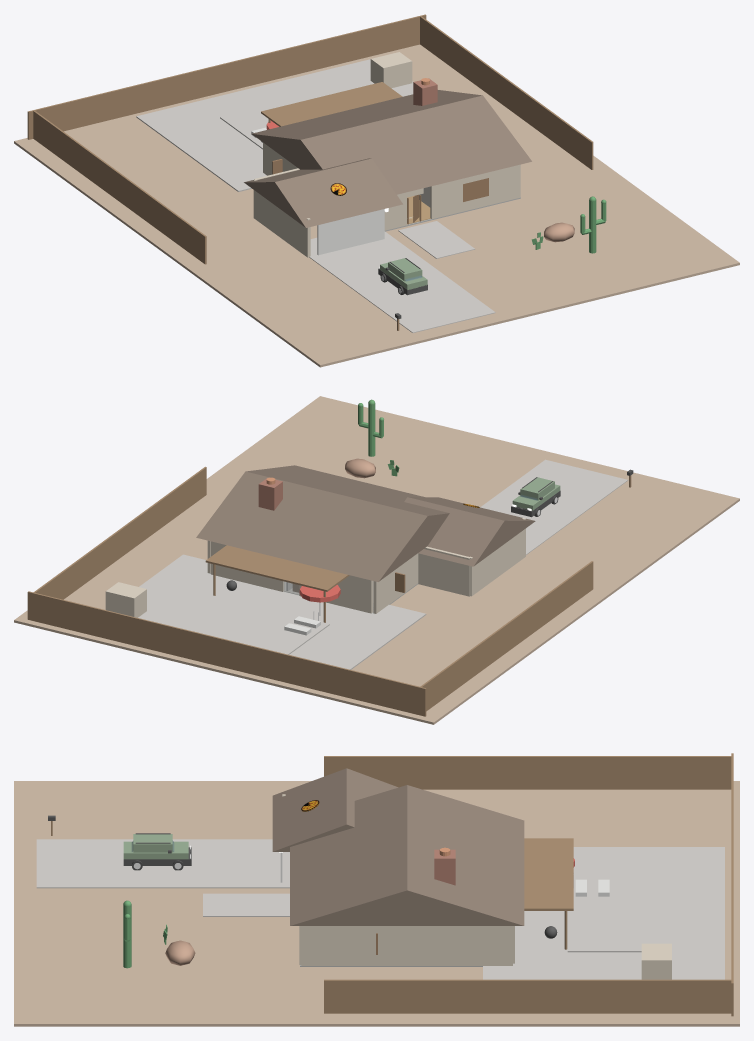
File: walter_white_house.glb
The picture shows the model from 3 angles, top to bottom: view 1: azimuth 30°, elevation 25°; view 2: azimuth 150°, elevation 25°; view 3: azimuth 270°, elevation 25°; orthographic projection. The views are drawn at different scales.
Parts seen in each view (by area): view 1: Walt_House_308NegraArroyo_lot, Walt_House_308NegraArroyo_main_roof, Walt_House_308NegraArroyo_fence_back, Walt_House_308NegraArroyo_patio, Walt_House_308NegraArroyo_driveway, Walt_House_308NegraArroyo_garage_roof, Walt_House_308NegraArroyo_fence_left, Walt_House_308NegraArroyo_fence_right, Walt_House_308NegraArroyo_ext_s_r, Walt_House_308NegraArroyo_pergola_beam, Walt_House_308NegraArroyo_garage_door, Walt_House_308NegraArroyo_garage_w (+4 smaller); view 2: Walt_House_308NegraArroyo_lot, Walt_House_308NegraArroyo_main_roof, Walt_House_308NegraArroyo_fence_back, Walt_House_308NegraArroyo_patio, Walt_House_308NegraArroyo_fence_left, Walt_House_308NegraArroyo_driveway, Walt_House_308NegraArroyo_fence_right, Walt_House_308NegraArroyo_pool_coping, Walt_House_308NegraArroyo_garage_roof, Walt_House_308NegraArroyo_pergola_beam, Walt_House_308NegraArroyo_garage_back, Walt_House_308NegraArroyo_garage_w (+5 smaller); view 3: Walt_House_308NegraArroyo_lot, Walt_House_308NegraArroyo_main_roof, Walt_House_308NegraArroyo_patio, Walt_House_308NegraArroyo_fence_right, Walt_House_308NegraArroyo_fence_left, Walt_House_308NegraArroyo_driveway, Walt_House_308NegraArroyo_ext_e, Walt_House_308NegraArroyo_pool_coping, Walt_House_308NegraArroyo_garage_roof, Walt_House_308NegraArroyo_pergola_beam, Walt_House_308NegraArroyo_walkway, Walt_House_308NegraArroyo_pump_shed (+5 smaller).
Boxes of the visible parts, bbox=[...] form: Walt_House_308NegraArroyo_lot: bbox=[14, 44, 739, 367]; Walt_House_308NegraArroyo_main_roof: bbox=[251, 90, 531, 194]; Walt_House_308NegraArroyo_fence_back: bbox=[27, 14, 426, 139]; Walt_House_308NegraArroyo_patio: bbox=[136, 59, 413, 191]; Walt_House_308NegraArroyo_driveway: bbox=[309, 231, 495, 332]; Walt_House_308NegraArroyo_garage_roof: bbox=[244, 158, 402, 227]; Walt_House_308NegraArroyo_fence_left: bbox=[33, 110, 206, 264]; Walt_House_308NegraArroyo_fence_right: bbox=[420, 16, 593, 169]; Walt_House_308NegraArroyo_ext_s_r: bbox=[430, 164, 520, 218]; Walt_House_308NegraArroyo_pergola_beam: bbox=[261, 82, 402, 126]; Walt_House_308NegraArroyo_garage_door: bbox=[317, 209, 384, 255]; Walt_House_308NegraArroyo_garage_w: bbox=[253, 179, 310, 257]; Walt_House_308NegraArroyo_lot: bbox=[14, 396, 739, 724]; Walt_House_308NegraArroyo_main_roof: bbox=[196, 465, 449, 581]; Walt_House_308NegraArroyo_fence_back: bbox=[27, 591, 426, 716]; Walt_House_308NegraArroyo_patio: bbox=[138, 554, 426, 669]; Walt_House_308NegraArroyo_fence_left: bbox=[420, 561, 593, 711]; Walt_House_308NegraArroyo_driveway: bbox=[480, 459, 628, 554]; Walt_House_308NegraArroyo_fence_right: bbox=[33, 466, 206, 599]; Walt_House_308NegraArroyo_pool_coping: bbox=[167, 594, 329, 654]; Walt_House_308NegraArroyo_garage_roof: bbox=[404, 497, 535, 566]; Walt_House_308NegraArroyo_pergola_beam: bbox=[205, 545, 349, 591]; Walt_House_308NegraArroyo_garage_back: bbox=[418, 546, 470, 596]; Walt_House_308NegraArroyo_garage_w: bbox=[469, 518, 525, 596]; Walt_House_308NegraArroyo_lot: bbox=[14, 781, 739, 1026]; Walt_House_308NegraArroyo_main_roof: bbox=[290, 785, 524, 925]; Walt_House_308NegraArroyo_patio: bbox=[483, 847, 724, 979]; Walt_House_308NegraArroyo_fence_right: bbox=[324, 979, 731, 1013]; Walt_House_308NegraArroyo_fence_left: bbox=[324, 756, 731, 789]; Walt_House_308NegraArroyo_driveway: bbox=[36, 839, 289, 888]; Walt_House_308NegraArroyo_ext_e: bbox=[301, 926, 512, 965]; Walt_House_308NegraArroyo_pool_coping: bbox=[567, 880, 670, 952]; Walt_House_308NegraArroyo_garage_roof: bbox=[272, 768, 398, 851]; Walt_House_308NegraArroyo_pergola_beam: bbox=[524, 838, 573, 910]; Walt_House_308NegraArroyo_walkway: bbox=[203, 893, 289, 916]; Walt_House_308NegraArroyo_pump_shed: bbox=[641, 943, 671, 979].
Size of what is drawn, in the model's own units: 38 by 7.8 by 48.
41 materials, 5 textured.
